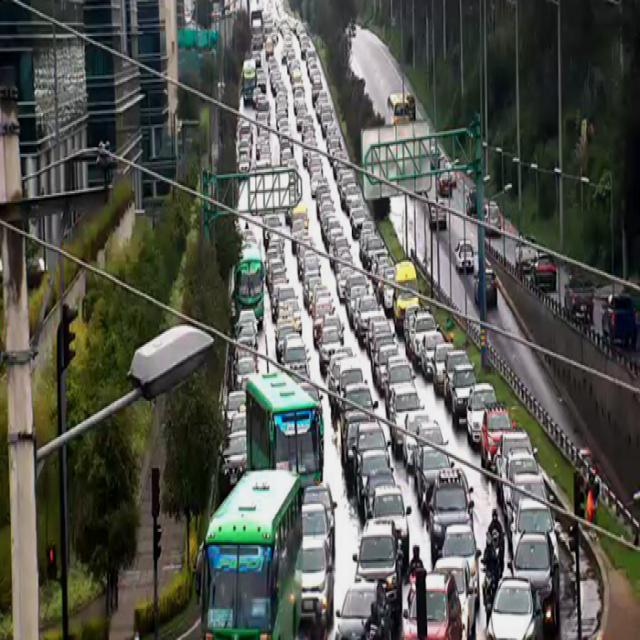BUS: (203, 474, 305, 640), (244, 374, 326, 488), (233, 256, 266, 327)
